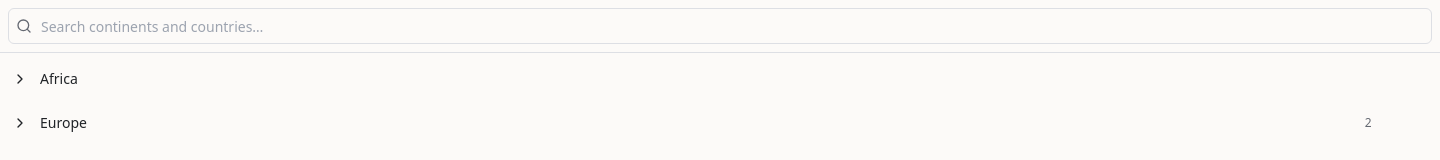
Scenario: <CatalogTree /> › search filter keeps ancestors and auto-expands
In the search field named "filter catalogue": (720, 26) [8,8,1432,44], type "roman"
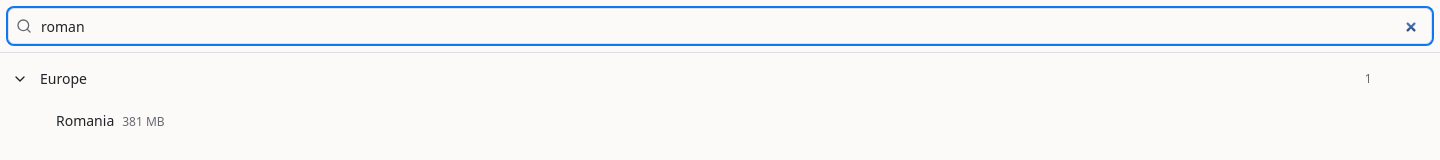
Expected: the list item "Romania381 MB" is shown, [56,111,165,130]
Expected: the button "Africa" is gone
